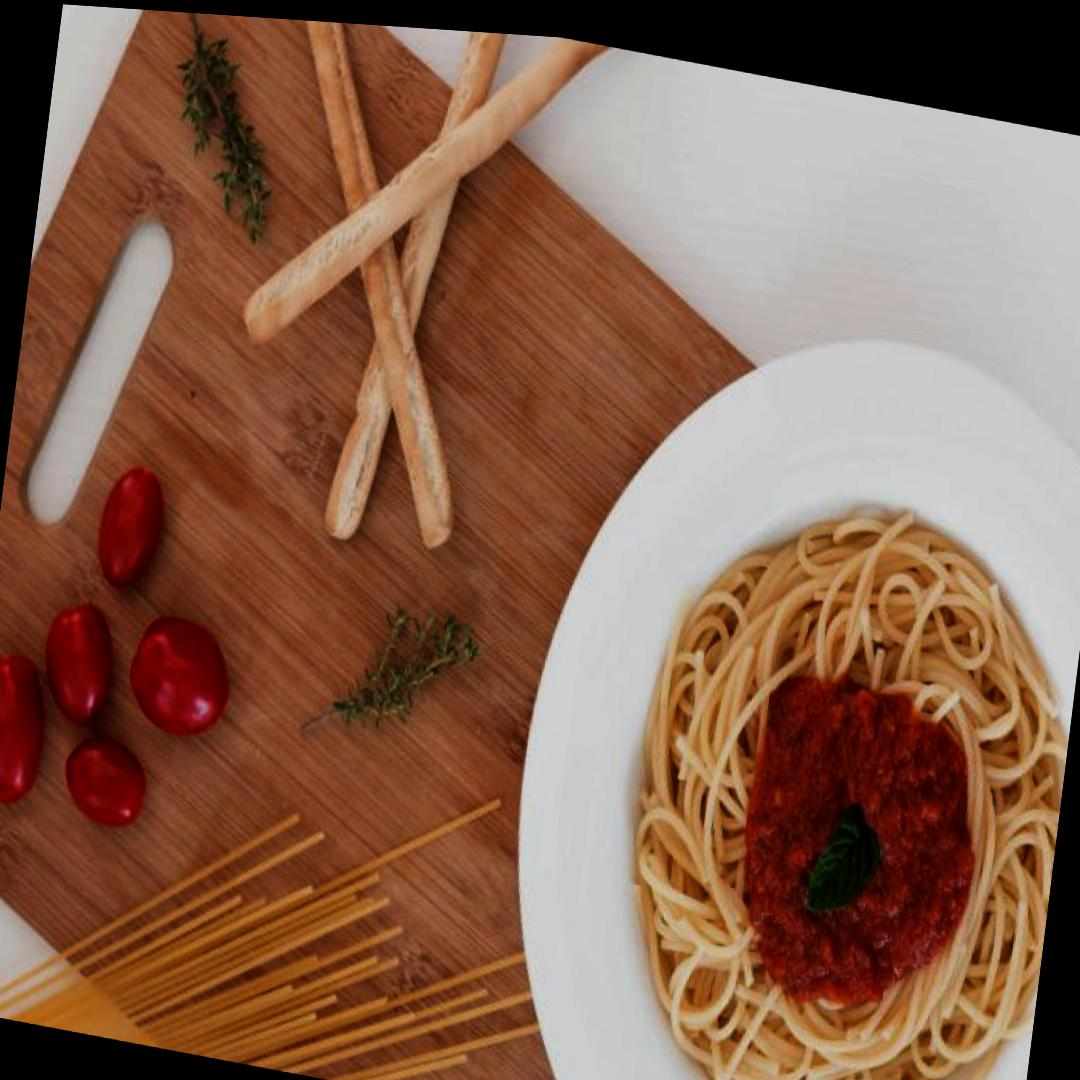matang: (123, 607, 238, 743), (36, 593, 121, 733), (93, 457, 168, 594), (61, 729, 150, 834), (0, 647, 50, 807)
